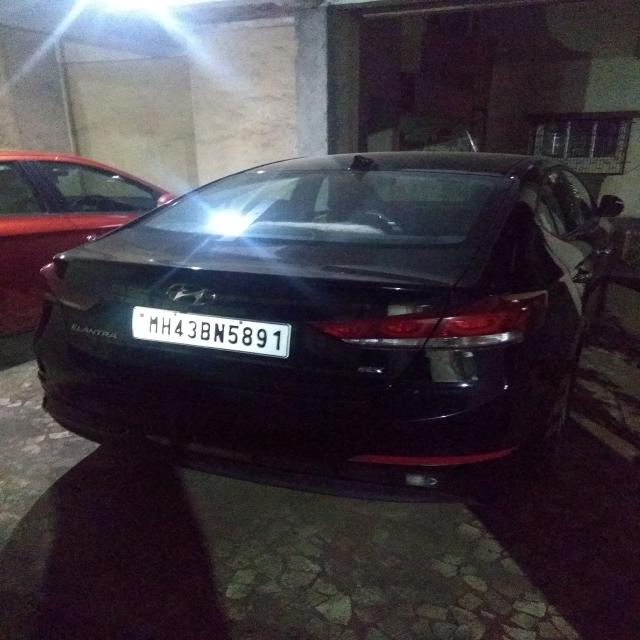Number-Plate: (139, 311, 291, 348)
